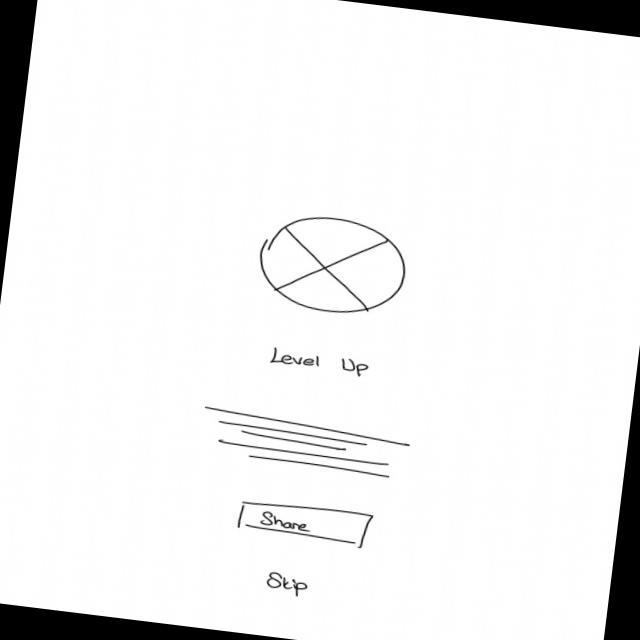button: (232, 495, 376, 551)
image: (253, 208, 412, 321)
label: (267, 344, 373, 379), (262, 568, 312, 600)
textbox: (197, 404, 413, 481)
